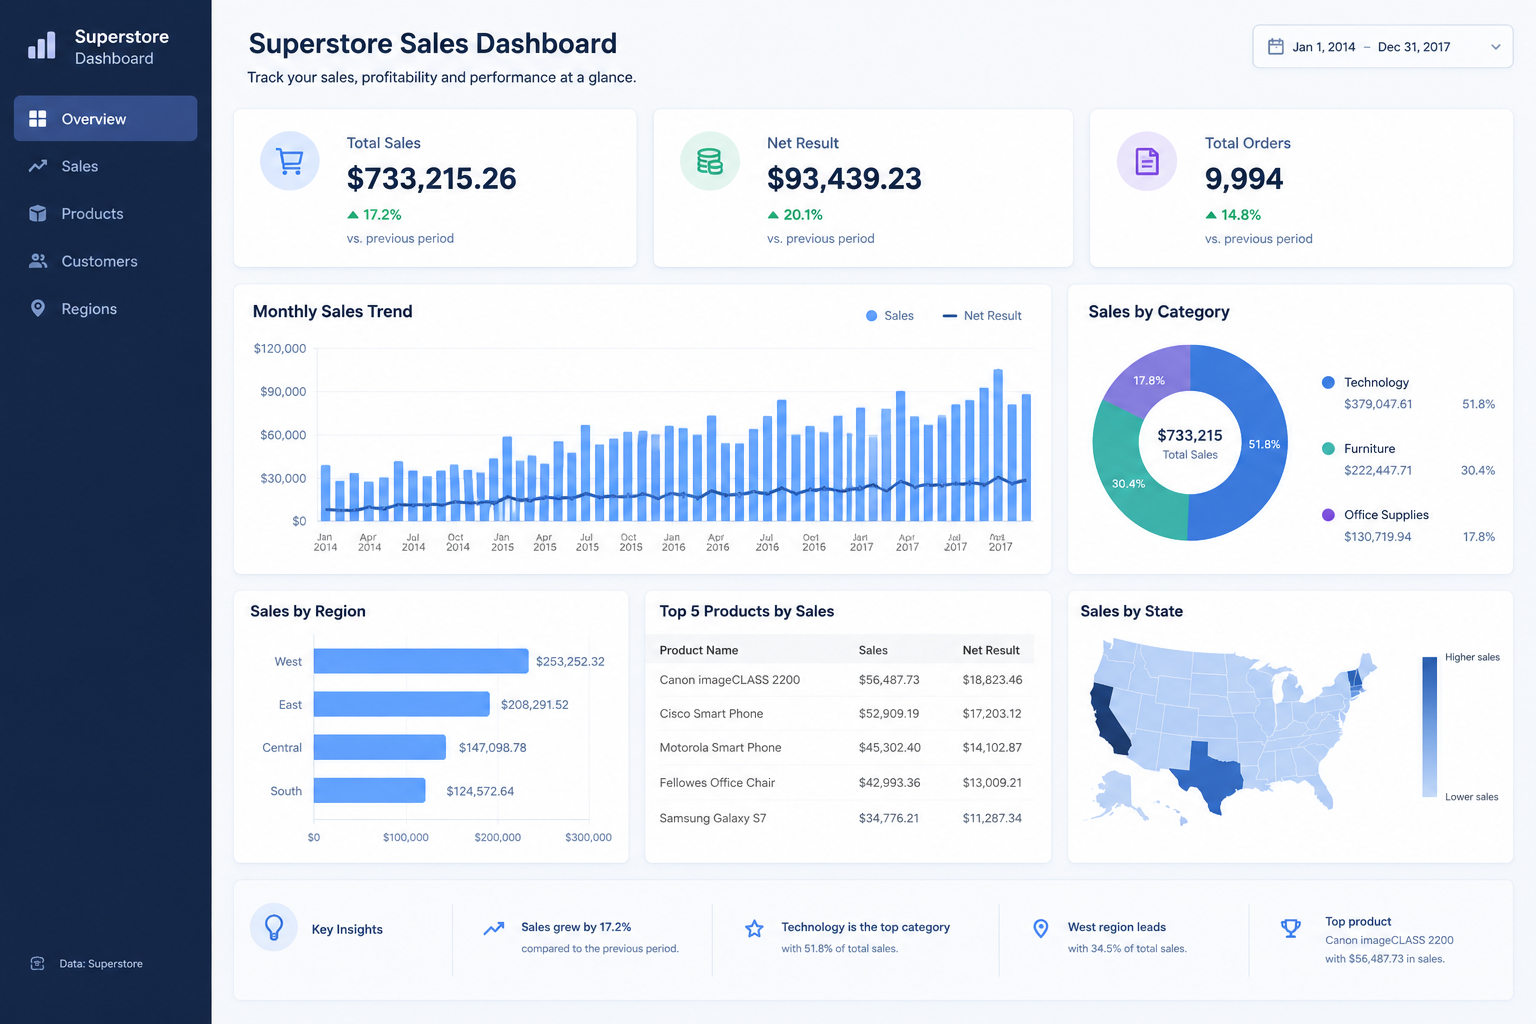

Layout of this report page (visuals, bound fields, positions):
{"tool":"powerbi","page":{"name":"Page 1","canvas":[1920,1080],"ordinal":0},"visuals":[{"type":"shape","box":[0,0,450,1080],"z":0},{"type":"textbox","title":"Super Store Dashboard","box":[53.3,43.3,245,105],"z":1000},{"type":"textbox","title":"Super Store Sales Dashboard","box":[496.7,40,657.5,55],"z":2000},{"type":"textbox","box":[497.5,97.5,720,30],"z":3000},{"type":"cardVisual","fields":{"Data":["My Measures.Total Orders"]},"box":[1117.5,152.5,238.5,127.7],"z":4000,"group":"g2"},{"type":"cardVisual","fields":{"Data":["My Measures.Net Result"]},"box":[806.7,155,238.5,127.7],"z":4000},{"type":"cardVisual","fields":{"Data":["My Measures.Total Sales"]},"box":[493.3,156.7,238.5,127.7],"z":4000,"group":"g1"},{"type":"cardVisual","fields":{"Data":["My Measures.Orders Growth"]},"box":[1125.3,230.6,96.7,27.5],"z":5000,"group":"g2"},{"type":"cardVisual","fields":{"Data":["My Measures.Net Result Growth"]},"box":[804,230.7,123.3,30],"z":5000},{"type":"cardVisual","fields":{"Data":["My Measures.Sales Growth"]},"box":[497.9,234.7,78.3,27.5],"z":5000,"group":"g1"},{"type":"textbox","box":[820.2,251.8,132.9,21.4],"z":6000},{"type":"textbox","box":[1139.8,252.5,132.9,21.4],"z":6000,"group":"g2"},{"type":"textbox","box":[515.6,256.7,132.9,21.4],"z":6000,"group":"g1"},{"type":"group","id":"g1","title":"Group 2","box":[493.3,156.7,240,126.7],"z":7000},{"type":"group","id":"g2","title":"Group 2","box":[1117.5,152.5,237.5,127.5],"z":8000},{"type":"pieChart","title":"Sales by Category","fields":{"Category":["superstore_clean.Category"],"Y":["Sum(superstore_clean.Sales)"]},"box":[840,310,512,288],"z":9000},{"type":"donutChart","title":"Returns","fields":{"Category":["superstore_clean.Returned"],"Y":["CountNonNull(superstore_clean.Returned)"]},"box":[494,310,326,286],"z":10000},{"type":"lineChart","fields":{"Category":["superstore_clean.Order Date.Variation.Date Hierarchy.Year","superstore_clean.Order Date.Variation.Date Hierarchy.Month"],"Y":["Sum(superstore_clean.Sales)"]},"box":[1376.7,156.7,516.7,440],"z":11000},{"type":"lineChart","title":"Average Delivery Time","fields":{"Category":["superstore_clean.Ship Mode"],"Y":["My Measures.Average Delivery Time"]},"box":[498,636,486,422],"z":12000},{"type":"tableEx","title":"Top 10 Product Sales","fields":{"Values":["superstore_clean.Product Name","My Measures.Total Sales","My Measures.Net Result"]},"box":[1025.9,637,775.4,405.6],"z":12001}]}

Visuals, with their boxes on the page's 1920x1080 design canvas (x1, y1, x2, y2). These are canvas units, not pixel positions in the 1536x1024 screenshot, which may show the page scaled, cropped or inside an application window:
shape: x1=0 y1=0 x2=450 y2=1080
"Super Store Dashboard" textbox: x1=53 y1=43 x2=298 y2=148
"Super Store Sales Dashboard" textbox: x1=497 y1=40 x2=1154 y2=95
textbox: x1=498 y1=98 x2=1218 y2=128
cardVisual - My Measures.Total Orders: x1=1118 y1=152 x2=1356 y2=280
cardVisual - My Measures.Net Result: x1=807 y1=155 x2=1045 y2=283
cardVisual - My Measures.Total Sales: x1=493 y1=157 x2=732 y2=284
cardVisual - My Measures.Orders Growth: x1=1125 y1=231 x2=1222 y2=258
cardVisual - My Measures.Net Result Growth: x1=804 y1=231 x2=927 y2=261
cardVisual - My Measures.Sales Growth: x1=498 y1=235 x2=576 y2=262
textbox: x1=820 y1=252 x2=953 y2=273
textbox: x1=1140 y1=252 x2=1273 y2=274
textbox: x1=516 y1=257 x2=648 y2=278
"Group 2" group: x1=493 y1=157 x2=733 y2=283
"Group 2" group: x1=1118 y1=152 x2=1355 y2=280
"Sales by Category" pieChart: x1=840 y1=310 x2=1352 y2=598
"Returns" donutChart: x1=494 y1=310 x2=820 y2=596
lineChart - superstore_clean.Order Date.Variation.Date Hierarchy.Year x superstore_clean.Order Date.Variation.Date Hierarchy.Month: x1=1377 y1=157 x2=1893 y2=597
"Average Delivery Time" lineChart: x1=498 y1=636 x2=984 y2=1058
"Top 10 Product Sales" tableEx: x1=1026 y1=637 x2=1801 y2=1043
